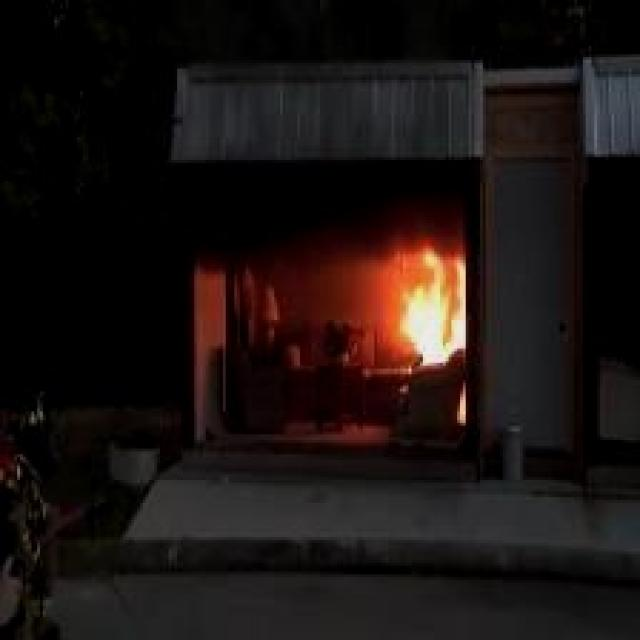fire: (386, 217, 483, 372)
